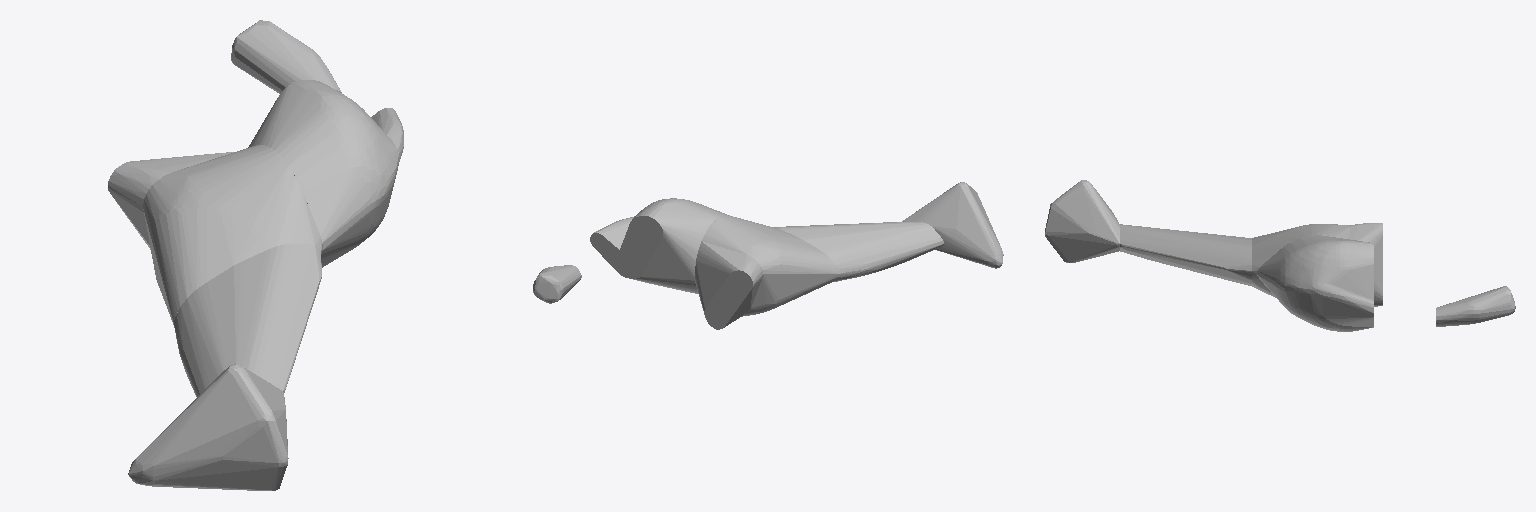
The robot description file, URDF, robot "root":
<robot name="root">
  <link name="link_coacd_convex_piece_0">
    <inertial>
      <origin xyz="0 0 0" rpy="0 0 0"/>
      <inertia ixx="1.89E-08" ixy="-1.11E-08" ixz="-1.39E-09" iyy="7.29E-09" iyz="-2.18E-09" izz="2.55E-08"/>
    </inertial>
    <visual>
      <origin xyz="0 0 0" rpy="0 0 0"/>
      <geometry>
        <mesh filename="coacd_convex_piece_0.obj" scale="1.0000E+00 1.0000E+00 1.0000E+00"/>
      </geometry>
      <material name="">
        <color rgba="7.50E-01 7.50E-01 7.50E-01 1"/>
      </material>
    </visual>
    <collision>
      <origin xyz="0 0 0" rpy="0 0 0"/>
      <geometry>
        <mesh filename="coacd_convex_piece_0.obj" scale="1.0000E+00 1.0000E+00 1.0000E+00"/>
      </geometry>
    </collision>
  </link>
  <link name="link_coacd_convex_piece_1">
    <inertial>
      <origin xyz="0 0 0" rpy="0 0 0"/>
      <inertia ixx="6.12E-09" ixy="-3.03E-09" ixz="-8.25E-10" iyy="2.17E-09" iyz="-1.32E-09" izz="7.62E-09"/>
    </inertial>
    <visual>
      <origin xyz="0 0 0" rpy="0 0 0"/>
      <geometry>
        <mesh filename="coacd_convex_piece_1.obj" scale="1.0000E+00 1.0000E+00 1.0000E+00"/>
      </geometry>
      <material name="">
        <color rgba="7.50E-01 7.50E-01 7.50E-01 1"/>
      </material>
    </visual>
    <collision>
      <origin xyz="0 0 0" rpy="0 0 0"/>
      <geometry>
        <mesh filename="coacd_convex_piece_1.obj" scale="1.0000E+00 1.0000E+00 1.0000E+00"/>
      </geometry>
    </collision>
  </link>
  <joint name="link_coacd_convex_piece_1_joint" type="fixed">
    <origin xyz="0 0 0" rpy="0 0 0"/>
    <parent link="link_coacd_convex_piece_0"/>
    <child link="link_coacd_convex_piece_1"/>
  </joint>
  <link name="link_coacd_convex_piece_2">
    <inertial>
      <origin xyz="0 0 0" rpy="0 0 0"/>
      <inertia ixx="7.94E-09" ixy="7.73E-11" ixz="-1.48E-11" iyy="2.53E-10" iyz="1.51E-09" izz="7.52E-09"/>
    </inertial>
    <visual>
      <origin xyz="0 0 0" rpy="0 0 0"/>
      <geometry>
        <mesh filename="coacd_convex_piece_2.obj" scale="1.0000E+00 1.0000E+00 1.0000E+00"/>
      </geometry>
      <material name="">
        <color rgba="7.50E-01 7.50E-01 7.50E-01 1"/>
      </material>
    </visual>
    <collision>
      <origin xyz="0 0 0" rpy="0 0 0"/>
      <geometry>
        <mesh filename="coacd_convex_piece_2.obj" scale="1.0000E+00 1.0000E+00 1.0000E+00"/>
      </geometry>
    </collision>
  </link>
  <joint name="link_coacd_convex_piece_2_joint" type="fixed">
    <origin xyz="0 0 0" rpy="0 0 0"/>
    <parent link="link_coacd_convex_piece_1"/>
    <child link="link_coacd_convex_piece_2"/>
  </joint>
  <link name="link_coacd_convex_piece_3">
    <inertial>
      <origin xyz="0 0 0" rpy="0 0 0"/>
      <inertia ixx="6.96E-09" ixy="2.71E-09" ixz="2.04E-10" iyy="9.66E-10" iyz="-6.41E-10" izz="7.81E-09"/>
    </inertial>
    <visual>
      <origin xyz="0 0 0" rpy="0 0 0"/>
      <geometry>
        <mesh filename="coacd_convex_piece_3.obj" scale="1.0000E+00 1.0000E+00 1.0000E+00"/>
      </geometry>
      <material name="">
        <color rgba="7.50E-01 7.50E-01 7.50E-01 1"/>
      </material>
    </visual>
    <collision>
      <origin xyz="0 0 0" rpy="0 0 0"/>
      <geometry>
        <mesh filename="coacd_convex_piece_3.obj" scale="1.0000E+00 1.0000E+00 1.0000E+00"/>
      </geometry>
    </collision>
  </link>
  <joint name="link_coacd_convex_piece_3_joint" type="fixed">
    <origin xyz="0 0 0" rpy="0 0 0"/>
    <parent link="link_coacd_convex_piece_2"/>
    <child link="link_coacd_convex_piece_3"/>
  </joint>
  <link name="link_coacd_convex_piece_4">
    <inertial>
      <origin xyz="0 0 0" rpy="0 0 0"/>
      <inertia ixx="1.82E-09" ixy="4.77E-11" ixz="-1.57E-12" iyy="1.12E-10" iyz="1.95E-10" izz="1.67E-09"/>
    </inertial>
    <visual>
      <origin xyz="0 0 0" rpy="0 0 0"/>
      <geometry>
        <mesh filename="coacd_convex_piece_4.obj" scale="1.0000E+00 1.0000E+00 1.0000E+00"/>
      </geometry>
      <material name="">
        <color rgba="7.50E-01 7.50E-01 7.50E-01 1"/>
      </material>
    </visual>
    <collision>
      <origin xyz="0 0 0" rpy="0 0 0"/>
      <geometry>
        <mesh filename="coacd_convex_piece_4.obj" scale="1.0000E+00 1.0000E+00 1.0000E+00"/>
      </geometry>
    </collision>
  </link>
  <joint name="link_coacd_convex_piece_4_joint" type="fixed">
    <origin xyz="0 0 0" rpy="0 0 0"/>
    <parent link="link_coacd_convex_piece_3"/>
    <child link="link_coacd_convex_piece_4"/>
  </joint>
  <link name="link_coacd_convex_piece_5">
    <inertial>
      <origin xyz="0 0 0" rpy="0 0 0"/>
      <inertia ixx="1.44E-09" ixy="3.14E-10" ixz="-2.64E-10" iyy="8.68E-10" iyz="2.81E-11" izz="1.07E-09"/>
    </inertial>
    <visual>
      <origin xyz="0 0 0" rpy="0 0 0"/>
      <geometry>
        <mesh filename="coacd_convex_piece_5.obj" scale="1.0000E+00 1.0000E+00 1.0000E+00"/>
      </geometry>
      <material name="">
        <color rgba="7.50E-01 7.50E-01 7.50E-01 1"/>
      </material>
    </visual>
    <collision>
      <origin xyz="0 0 0" rpy="0 0 0"/>
      <geometry>
        <mesh filename="coacd_convex_piece_5.obj" scale="1.0000E+00 1.0000E+00 1.0000E+00"/>
      </geometry>
    </collision>
  </link>
  <joint name="link_coacd_convex_piece_5_joint" type="fixed">
    <origin xyz="0 0 0" rpy="0 0 0"/>
    <parent link="link_coacd_convex_piece_4"/>
    <child link="link_coacd_convex_piece_5"/>
  </joint>
  <link name="link_coacd_convex_piece_6">
    <inertial>
      <origin xyz="0 0 0" rpy="0 0 0"/>
      <inertia ixx="2.41E-09" ixy="-1.35E-09" ixz="-3.17E-10" iyy="9.28E-10" iyz="-5.05E-10" izz="3.11E-09"/>
    </inertial>
    <visual>
      <origin xyz="0 0 0" rpy="0 0 0"/>
      <geometry>
        <mesh filename="coacd_convex_piece_6.obj" scale="1.0000E+00 1.0000E+00 1.0000E+00"/>
      </geometry>
      <material name="">
        <color rgba="7.50E-01 7.50E-01 7.50E-01 1"/>
      </material>
    </visual>
    <collision>
      <origin xyz="0 0 0" rpy="0 0 0"/>
      <geometry>
        <mesh filename="coacd_convex_piece_6.obj" scale="1.0000E+00 1.0000E+00 1.0000E+00"/>
      </geometry>
    </collision>
  </link>
  <joint name="link_coacd_convex_piece_6_joint" type="fixed">
    <origin xyz="0 0 0" rpy="0 0 0"/>
    <parent link="link_coacd_convex_piece_5"/>
    <child link="link_coacd_convex_piece_6"/>
  </joint>
  <link name="link_coacd_convex_piece_7">
    <inertial>
      <origin xyz="0 0 0" rpy="0 0 0"/>
      <inertia ixx="2.52E-09" ixy="-3.16E-09" ixz="-1.42E-10" iyy="4.09E-09" iyz="-1.03E-10" izz="6.57E-09"/>
    </inertial>
    <visual>
      <origin xyz="0 0 0" rpy="0 0 0"/>
      <geometry>
        <mesh filename="coacd_convex_piece_7.obj" scale="1.0000E+00 1.0000E+00 1.0000E+00"/>
      </geometry>
      <material name="">
        <color rgba="7.50E-01 7.50E-01 7.50E-01 1"/>
      </material>
    </visual>
    <collision>
      <origin xyz="0 0 0" rpy="0 0 0"/>
      <geometry>
        <mesh filename="coacd_convex_piece_7.obj" scale="1.0000E+00 1.0000E+00 1.0000E+00"/>
      </geometry>
    </collision>
  </link>
  <joint name="link_coacd_convex_piece_7_joint" type="fixed">
    <origin xyz="0 0 0" rpy="0 0 0"/>
    <parent link="link_coacd_convex_piece_6"/>
    <child link="link_coacd_convex_piece_7"/>
  </joint>
  <link name="link_coacd_convex_piece_8">
    <inertial>
      <origin xyz="0 0 0" rpy="0 0 0"/>
      <inertia ixx="2.96E-09" ixy="-1.14E-09" ixz="-1.26E-10" iyy="4.79E-10" iyz="-3.03E-10" izz="3.38E-09"/>
    </inertial>
    <visual>
      <origin xyz="0 0 0" rpy="0 0 0"/>
      <geometry>
        <mesh filename="coacd_convex_piece_8.obj" scale="1.0000E+00 1.0000E+00 1.0000E+00"/>
      </geometry>
      <material name="">
        <color rgba="7.50E-01 7.50E-01 7.50E-01 1"/>
      </material>
    </visual>
    <collision>
      <origin xyz="0 0 0" rpy="0 0 0"/>
      <geometry>
        <mesh filename="coacd_convex_piece_8.obj" scale="1.0000E+00 1.0000E+00 1.0000E+00"/>
      </geometry>
    </collision>
  </link>
  <joint name="link_coacd_convex_piece_8_joint" type="fixed">
    <origin xyz="0 0 0" rpy="0 0 0"/>
    <parent link="link_coacd_convex_piece_7"/>
    <child link="link_coacd_convex_piece_8"/>
  </joint>
  <link name="link_coacd_convex_piece_9">
    <inertial>
      <origin xyz="0 0 0" rpy="0 0 0"/>
      <inertia ixx="3.25E-10" ixy="-6.60E-10" ixz="-8.61E-11" iyy="1.42E-09" iyz="-4.10E-11" izz="1.72E-09"/>
    </inertial>
    <visual>
      <origin xyz="0 0 0" rpy="0 0 0"/>
      <geometry>
        <mesh filename="coacd_convex_piece_9.obj" scale="1.0000E+00 1.0000E+00 1.0000E+00"/>
      </geometry>
      <material name="">
        <color rgba="7.50E-01 7.50E-01 7.50E-01 1"/>
      </material>
    </visual>
    <collision>
      <origin xyz="0 0 0" rpy="0 0 0"/>
      <geometry>
        <mesh filename="coacd_convex_piece_9.obj" scale="1.0000E+00 1.0000E+00 1.0000E+00"/>
      </geometry>
    </collision>
  </link>
  <joint name="link_coacd_convex_piece_9_joint" type="fixed">
    <origin xyz="0 0 0" rpy="0 0 0"/>
    <parent link="link_coacd_convex_piece_8"/>
    <child link="link_coacd_convex_piece_9"/>
  </joint>
  <link name="link_coacd_convex_piece_10">
    <inertial>
      <origin xyz="0 0 0" rpy="0 0 0"/>
      <inertia ixx="4.38E-09" ixy="-3.21E-09" ixz="-1.62E-10" iyy="2.41E-09" iyz="-2.21E-10" izz="6.76E-09"/>
    </inertial>
    <visual>
      <origin xyz="0 0 0" rpy="0 0 0"/>
      <geometry>
        <mesh filename="coacd_convex_piece_10.obj" scale="1.0000E+00 1.0000E+00 1.0000E+00"/>
      </geometry>
      <material name="">
        <color rgba="7.50E-01 7.50E-01 7.50E-01 1"/>
      </material>
    </visual>
    <collision>
      <origin xyz="0 0 0" rpy="0 0 0"/>
      <geometry>
        <mesh filename="coacd_convex_piece_10.obj" scale="1.0000E+00 1.0000E+00 1.0000E+00"/>
      </geometry>
    </collision>
  </link>
  <joint name="link_coacd_convex_piece_10_joint" type="fixed">
    <origin xyz="0 0 0" rpy="0 0 0"/>
    <parent link="link_coacd_convex_piece_9"/>
    <child link="link_coacd_convex_piece_10"/>
  </joint>
  <link name="link_coacd_convex_piece_11">
    <inertial>
      <origin xyz="0 0 0" rpy="0 0 0"/>
      <inertia ixx="3.22E-09" ixy="-3.97E-09" ixz="-8.83E-10" iyy="9.07E-09" iyz="-5.37E-10" izz="1.09E-08"/>
    </inertial>
    <visual>
      <origin xyz="0 0 0" rpy="0 0 0"/>
      <geometry>
        <mesh filename="coacd_convex_piece_11.obj" scale="1.0000E+00 1.0000E+00 1.0000E+00"/>
      </geometry>
      <material name="">
        <color rgba="7.50E-01 7.50E-01 7.50E-01 1"/>
      </material>
    </visual>
    <collision>
      <origin xyz="0 0 0" rpy="0 0 0"/>
      <geometry>
        <mesh filename="coacd_convex_piece_11.obj" scale="1.0000E+00 1.0000E+00 1.0000E+00"/>
      </geometry>
    </collision>
  </link>
  <joint name="link_coacd_convex_piece_11_joint" type="fixed">
    <origin xyz="0 0 0" rpy="0 0 0"/>
    <parent link="link_coacd_convex_piece_10"/>
    <child link="link_coacd_convex_piece_11"/>
  </joint>
  <link name="link_coacd_convex_piece_12">
    <inertial>
      <origin xyz="0 0 0" rpy="0 0 0"/>
      <inertia ixx="9.27E-10" ixy="-7.42E-10" ixz="-2.99E-10" iyy="8.12E-10" iyz="-3.20E-10" izz="1.50E-09"/>
    </inertial>
    <visual>
      <origin xyz="0 0 0" rpy="0 0 0"/>
      <geometry>
        <mesh filename="coacd_convex_piece_12.obj" scale="1.0000E+00 1.0000E+00 1.0000E+00"/>
      </geometry>
      <material name="">
        <color rgba="7.50E-01 7.50E-01 7.50E-01 1"/>
      </material>
    </visual>
    <collision>
      <origin xyz="0 0 0" rpy="0 0 0"/>
      <geometry>
        <mesh filename="coacd_convex_piece_12.obj" scale="1.0000E+00 1.0000E+00 1.0000E+00"/>
      </geometry>
    </collision>
  </link>
  <joint name="link_coacd_convex_piece_12_joint" type="fixed">
    <origin xyz="0 0 0" rpy="0 0 0"/>
    <parent link="link_coacd_convex_piece_11"/>
    <child link="link_coacd_convex_piece_12"/>
  </joint>
</robot>

--- What the picture shows (computed from the rendered views, not written in the file) ---
The picture shows the robot from 3 angles, left to right: view 1: azimuth 30°, elevation 25°; view 2: azimuth 150°, elevation 25°; view 3: azimuth 270°, elevation 25°; orthographic projection.
Model root with 13 links and 12 joints (12 fixed), rooted at link_coacd_convex_piece_0, posed all joints at 0.
Links seen in each view (by area): view 1: link_coacd_convex_piece_5, link_coacd_convex_piece_11, link_coacd_convex_piece_1, link_coacd_convex_piece_0, link_coacd_convex_piece_10, link_coacd_convex_piece_4, link_coacd_convex_piece_9; view 2: link_coacd_convex_piece_11, link_coacd_convex_piece_5, link_coacd_convex_piece_1, link_coacd_convex_piece_0, link_coacd_convex_piece_4, link_coacd_convex_piece_10, link_coacd_convex_piece_9; view 3: link_coacd_convex_piece_11, link_coacd_convex_piece_1, link_coacd_convex_piece_0, link_coacd_convex_piece_10, link_coacd_convex_piece_9, link_coacd_convex_piece_5, link_coacd_convex_piece_4.
Link boxes in pixels (x1,y1,x2,y2): link_coacd_convex_piece_5: (143,145,322,324); link_coacd_convex_piece_11: (248,80,399,267); link_coacd_convex_piece_1: (174,244,321,396); link_coacd_convex_piece_0: (128,364,288,490); link_coacd_convex_piece_10: (231,20,341,93); link_coacd_convex_piece_4: (108,152,233,249); link_coacd_convex_piece_9: (371,108,403,160); link_coacd_convex_piece_11: (620,198,729,293); link_coacd_convex_piece_5: (702,215,838,316); link_coacd_convex_piece_1: (774,221,943,281); link_coacd_convex_piece_0: (902,182,1003,268); link_coacd_convex_piece_4: (695,241,762,329); link_coacd_convex_piece_10: (533,265,581,303); link_coacd_convex_piece_9: (590,216,634,273); link_coacd_convex_piece_11: (1257,235,1373,331); link_coacd_convex_piece_1: (1120,224,1251,285); link_coacd_convex_piece_0: (1045,180,1119,262); link_coacd_convex_piece_10: (1436,286,1515,326); link_coacd_convex_piece_9: (1310,283,1373,327); link_coacd_convex_piece_5: (1252,224,1349,297); link_coacd_convex_piece_4: (1350,223,1382,306).
Bounding box of the posed robot: 0.1122 × 0.1523 × 0.0368 m (x, y, z).
7 mesh visuals loaded from 13 distinct referenced files (7 OBJ); not drawn: 6 (reference not matched to a file when rendering).